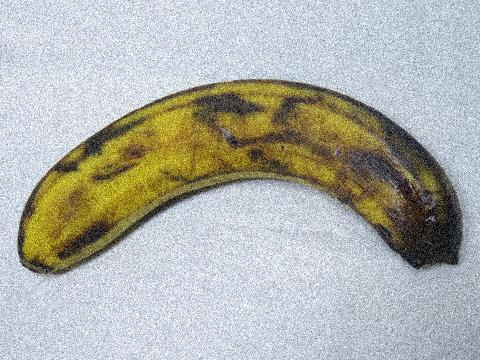overripe: (37, 57, 455, 300)
rotten: (333, 135, 479, 273)
